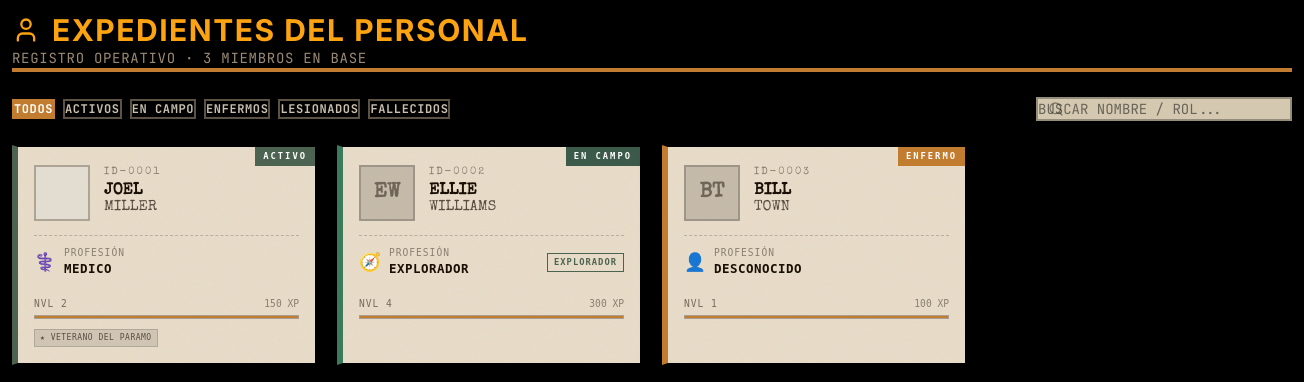
Test case: MembersView Component › resets filter to all members when TODOS is clicked after filtering
Click the button "EN CAMPO". click: (163, 108)
box: [130,98,196,118]
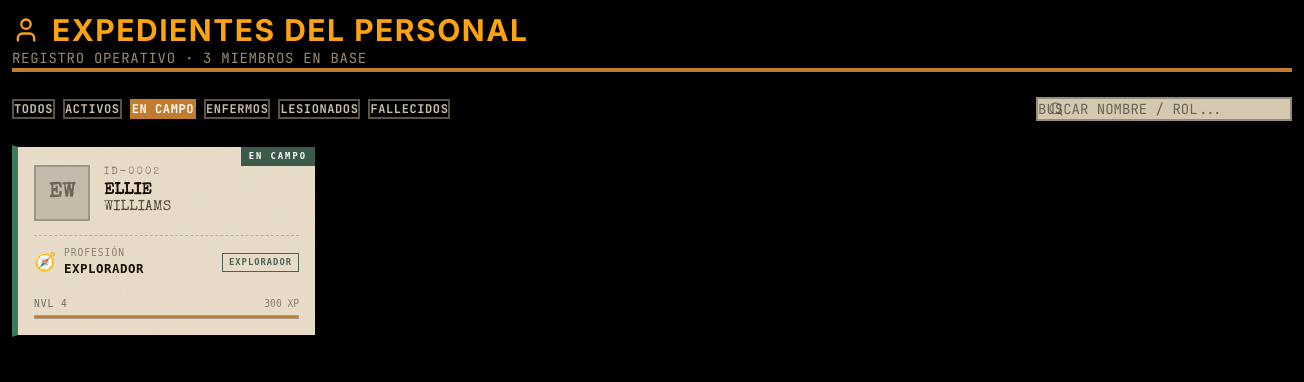
Check: the text "Joel" is gone
Click the button "TODOS". click: (34, 108)
box: [12,98,55,118]
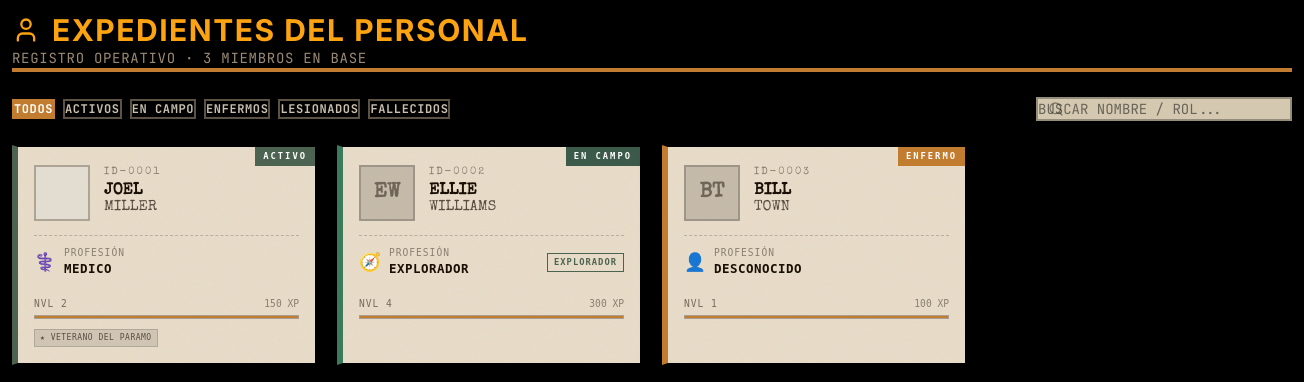
Check: the text "Ellie" is shown, box [429,183,477,199]
Check: the text "Joel" is shown, box [104,183,142,199]
